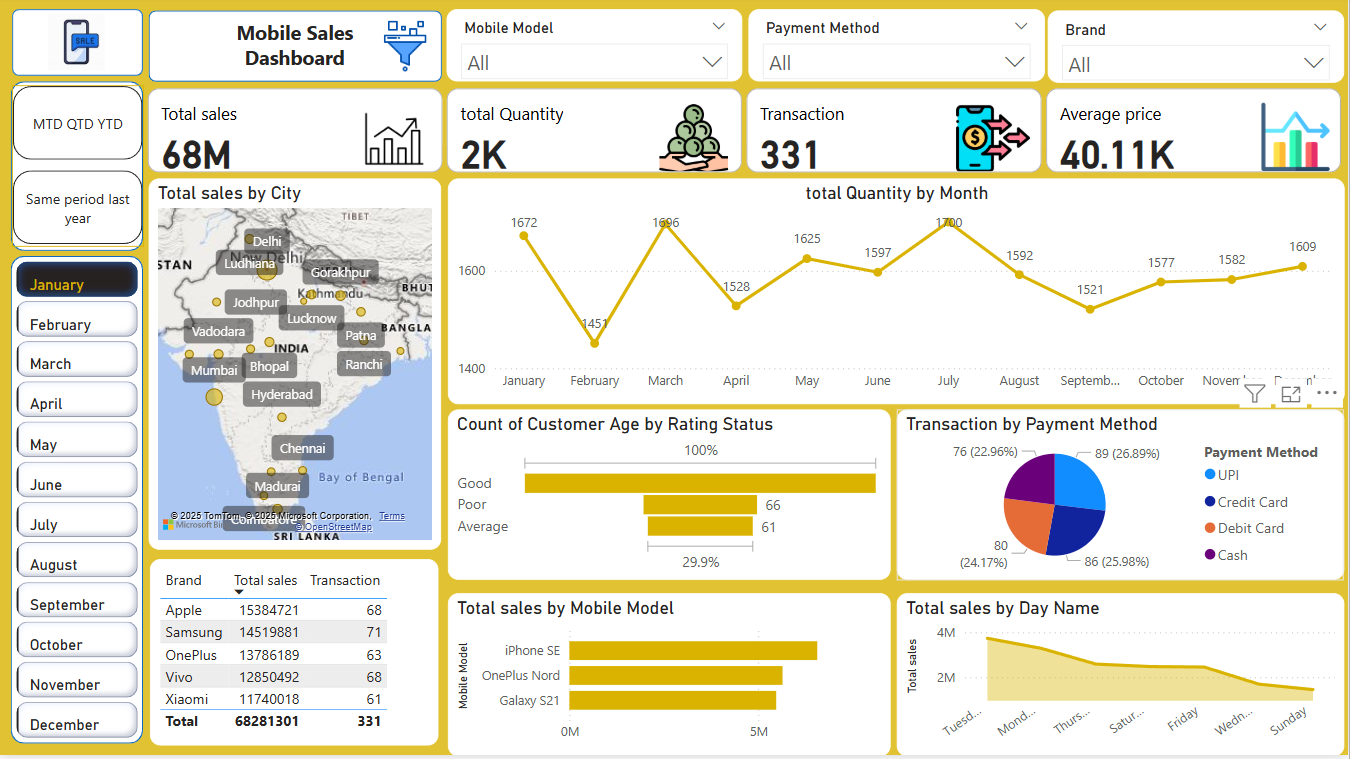

The dashboard page shown, as its layout file describes it:
{"tool":"powerbi","page":{"name":"Main Dashbord","canvas":[1280,720],"ordinal":0},"visuals":[{"type":"shape","box":[12.4,12.4,124.4,63.5],"z":0},{"type":"shape","box":[10.8,80.8,125.4,160.8],"z":1000},{"type":"shape","box":[10.7,246.7,125.3,462.7],"z":2000},{"type":"advancedSlicerVisual","fields":{"Values":["Custom Calendar.Date.Variation.Date Hierarchy.Month"]},"box":[10.7,246.7,125.3,473.3],"z":3000},{"type":"cardVisual","fields":{"Data":["Mobile sales data.Total sales","Mobile sales data.total unit sold","Mobile sales data.Transaction","Avg(Mobile sales data.Average price)"]},"box":[135.6,82.1,1144.9,90.8],"z":4000},{"type":"shape","box":[142.3,13.5,278.5,67.7],"z":5000},{"type":"textbox","box":[208.3,16.7,145,60],"z":6000},{"type":"slicer","fields":{"Values":["Mobile sales data.Payment Method"]},"box":[710.3,12.6,281.3,68.7],"z":7000},{"type":"slicer","fields":{"Values":["Mobile sales data.Mobile Model"]},"box":[424.8,12.6,280.6,68.7],"z":8000},{"type":"slicer","fields":{"Values":["Mobile sales data.Brand"]},"box":[994.5,13.5,281,68.7],"z":9000},{"type":"lineChart","fields":{"Category":["Custom Calendar.Date.Variation.Date Hierarchy.Month"],"Y":["Mobile sales data.total Quantity"]},"box":[426,173,850,214],"z":10000},{"type":"funnel","fields":{"Y":["CountNonNull(Mobile sales data.Customer Age)"],"Category":["Mobile sales data.Rating Status"]},"box":[425,391.9,420,161.9],"z":11000},{"type":"pieChart","fields":{"Y":["Mobile sales data.Transaction"],"Category":["Mobile sales data.Payment Method"]},"box":[850.9,391.8,424.5,161.8],"z":12000},{"type":"clusteredBarChart","fields":{"Category":["Mobile sales data.Mobile Model"],"Y":["Mobile sales data.Total sales"]},"box":[425.7,565.7,420,154.3],"z":13000},{"type":"areaChart","fields":{"Y":["Mobile sales data.Total sales"],"Category":["Custom Calendar.Day Name"]},"box":[851.4,565.7,424.3,154.3],"z":14000},{"type":"tableEx","fields":{"Values":["Mobile sales data.Brand","Mobile sales data.Total sales","Mobile sales data.Transaction"]},"box":[143.1,533.9,273.8,176.7],"z":15000},{"type":"image","box":[353.4,17.4,63.5,59.7],"z":16000},{"type":"pageNavigator","box":[12.2,85,125,152.8],"z":17000},{"type":"image","box":[34.8,11.2,77.2,64.7],"z":18000},{"type":"map","fields":{"Category":["Mobile sales data.City"],"Size":["Mobile sales data.Total sales"]},"box":[141.9,173,277.5,352.2],"z":19000}]}

Visuals, with their boxes in screenshot pixels (x1, y1, x2, y2), scaled from the page's 1280x720 canvas onto the 1351x759 screenshot:
shape: <region>13, 13, 144, 80</region>
shape: <region>11, 85, 144, 255</region>
shape: <region>11, 260, 144, 748</region>
advancedSlicerVisual - Custom Calendar.Date.Variation.Date Hierarchy.Month: <region>11, 260, 144, 758</region>
cardVisual - Mobile sales data.Total sales x Mobile sales data.total unit sold: <region>143, 87, 1350, 182</region>
shape: <region>150, 14, 444, 86</region>
textbox: <region>220, 18, 373, 81</region>
slicer - Mobile sales data.Payment Method: <region>750, 13, 1047, 86</region>
slicer - Mobile sales data.Mobile Model: <region>448, 13, 745, 86</region>
slicer - Mobile sales data.Brand: <region>1050, 14, 1346, 87</region>
lineChart - Custom Calendar.Date.Variation.Date Hierarchy.Month x Mobile sales data.total Quantity: <region>450, 182, 1347, 408</region>
funnel - CountNonNull(Mobile sales data.Customer Age) x Mobile sales data.Rating Status: <region>449, 413, 892, 584</region>
pieChart - Mobile sales data.Transaction x Mobile sales data.Payment Method: <region>898, 413, 1346, 584</region>
clusteredBarChart - Mobile sales data.Mobile Model x Mobile sales data.Total sales: <region>449, 596, 893, 758</region>
areaChart - Mobile sales data.Total sales x Custom Calendar.Day Name: <region>899, 596, 1346, 758</region>
tableEx - Mobile sales data.Brand x Mobile sales data.Total sales: <region>151, 563, 440, 749</region>
image: <region>373, 18, 440, 81</region>
pageNavigator: <region>13, 90, 145, 251</region>
image: <region>37, 12, 118, 80</region>
map - Mobile sales data.City x Mobile sales data.Total sales: <region>150, 182, 443, 554</region>
